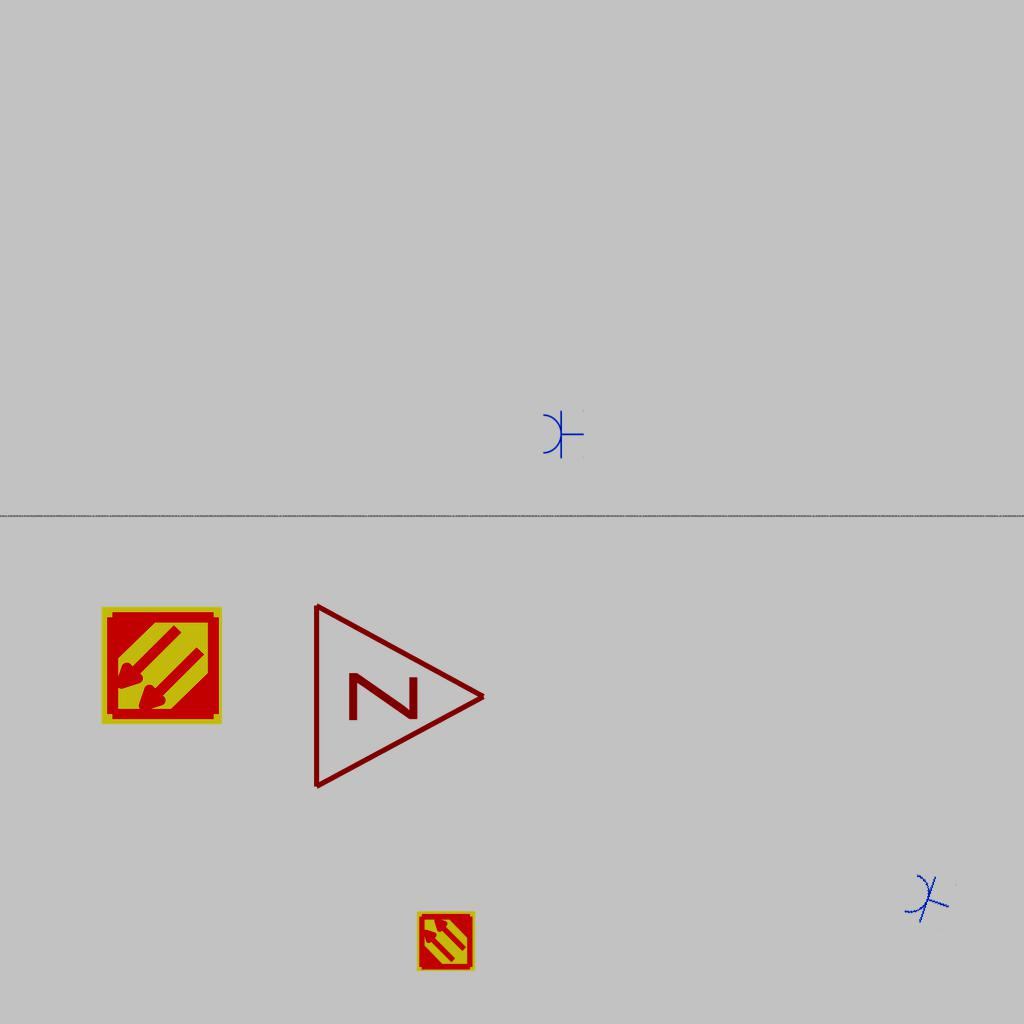ASR_Ansaugrauchmelder: (99, 603, 224, 728), (414, 909, 478, 973)
Schukosteckdose_einfach: (900, 868, 958, 931), (541, 409, 584, 459)
Zimmersignalleuchte: (299, 596, 499, 792)
